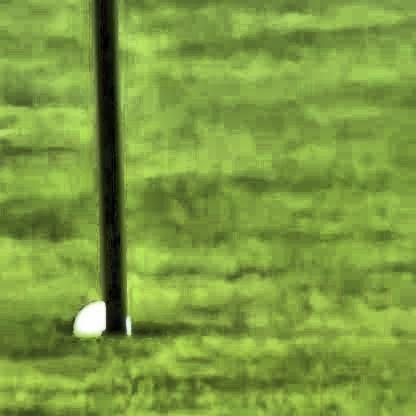golfball: (68, 308, 130, 345)
